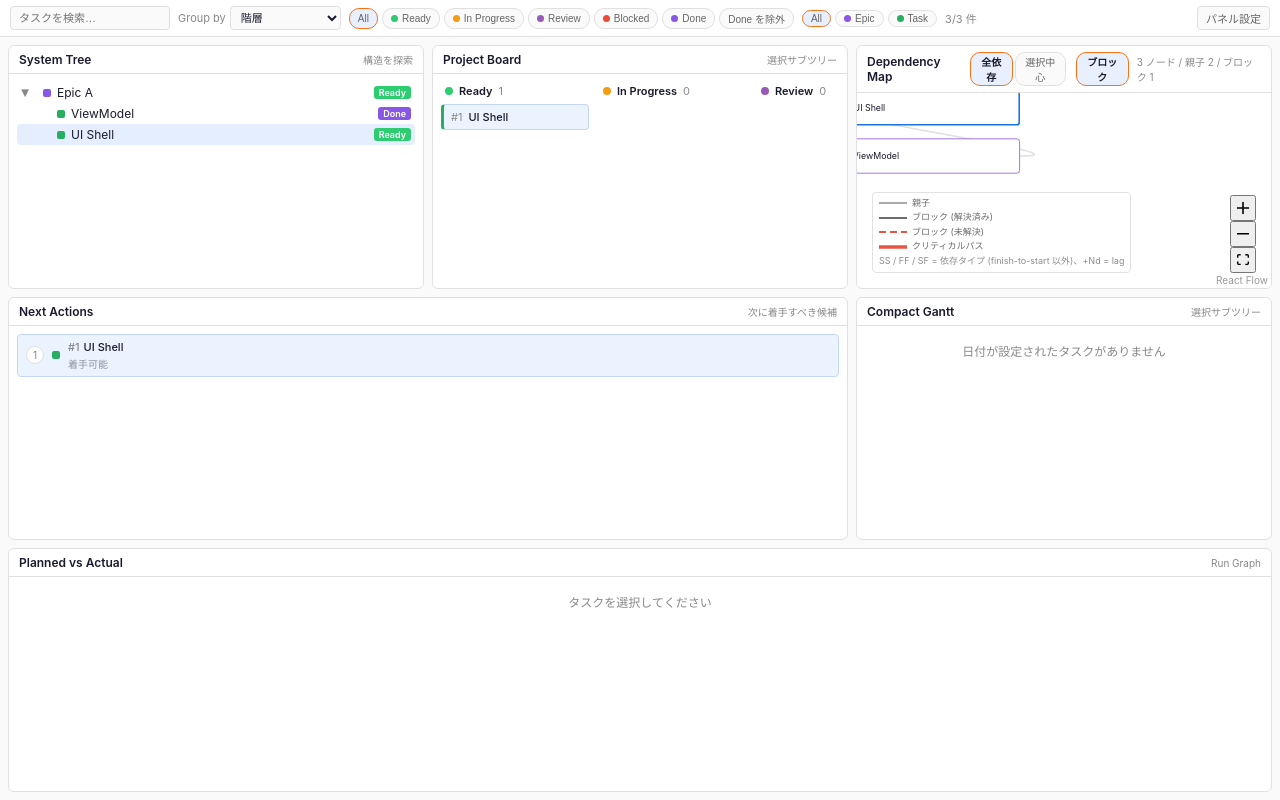
Test case: [FR-VIS-029-AC4] Dependency Map にフィルタが適用され、除外タスクはノードに出ず、除外ノードを経由する依存は途切れとして示される › 「選択中心」の絞り込みとフィルタは同時に効く
Click the button "選択中心" at (1040, 69), box [1015,52,1066,86]
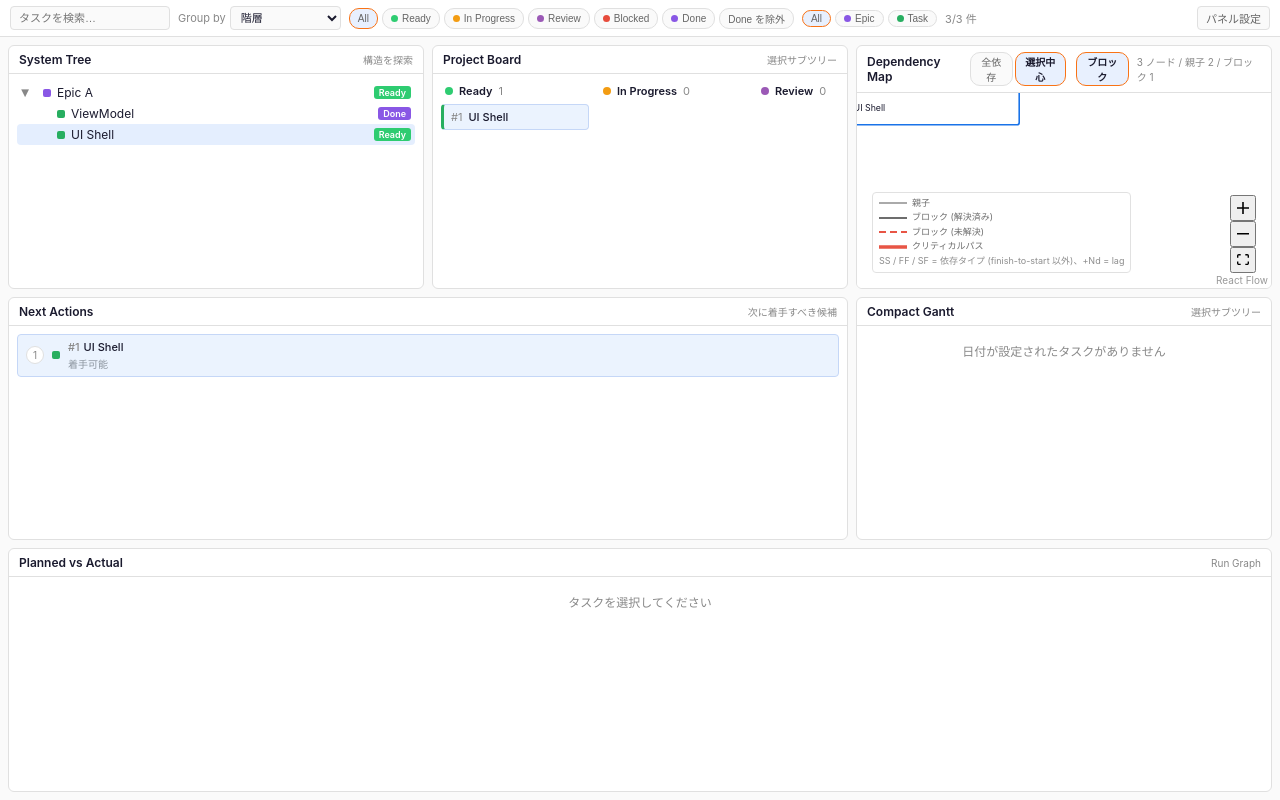
Click the button "Done を除外" at (757, 18), box [719,8,794,28]
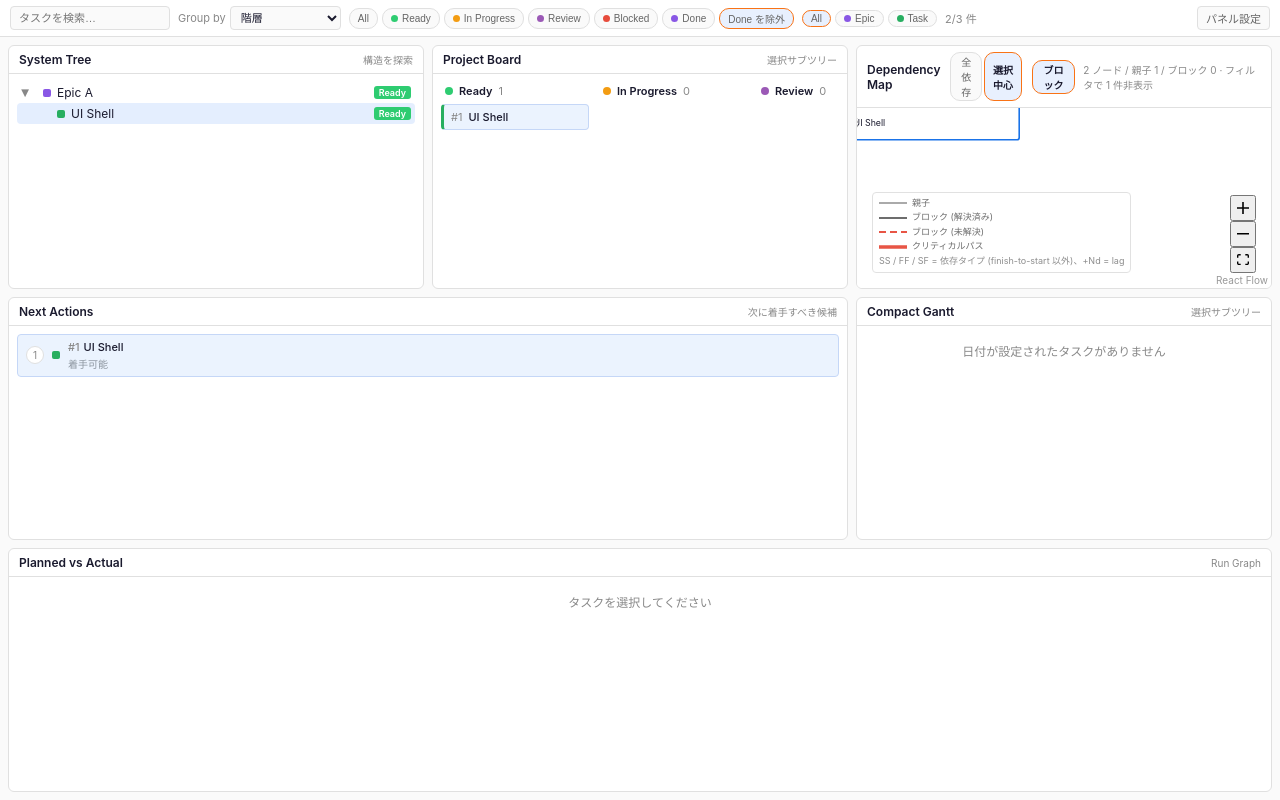
Expected: the element with class "react-flow__node" is shown, [857,108,1020,141]
Expected: the element named "Dependency Map" shows "フィルタで 1 件非表示", [1083,64,1255,90]
